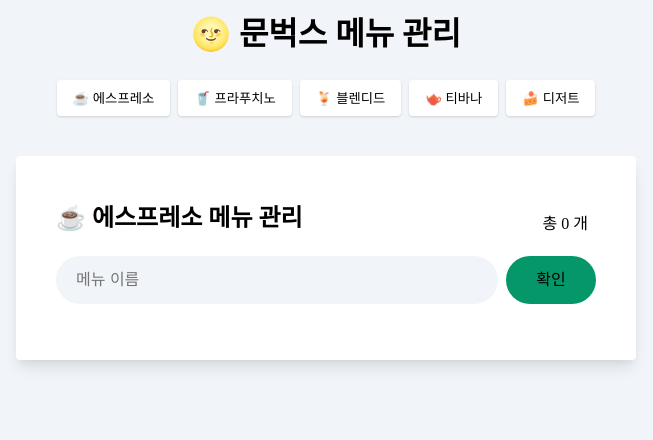
메인 페이지 테스팅 › 메뉴 추가 관련 테스팅 › 에스프레소 메뉴판에 새로운 메뉴를 입력 후 엔터를 눌러 추가 할 수 있다.
Type "카페 라떼" into the field with id "menu-name". click: (277, 280)
box: [56,256,498,304]
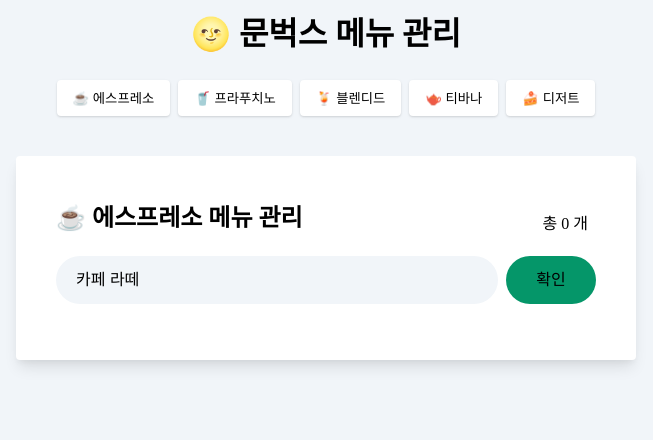
Press Enter in the field with id "menu-name", box [56,256,498,304]
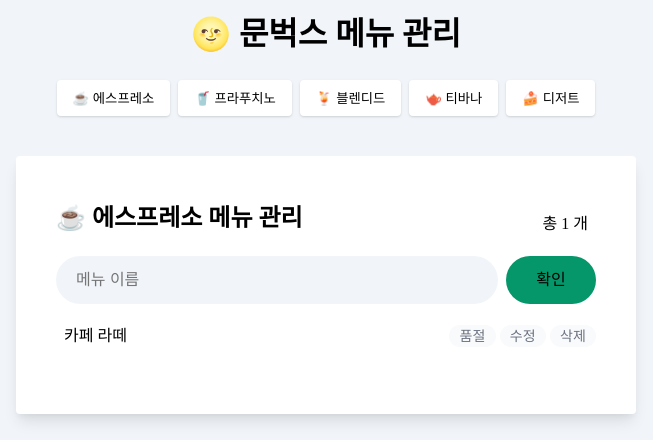
Check: the text "카페 라떼" is shown, box [64,327,127,344]
Check: the text "총 1 개" is shown, box [542,212,588,236]
